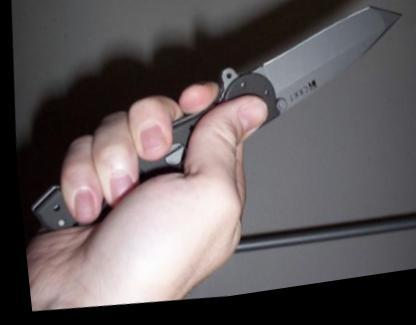knife: (77, 0, 415, 241)
